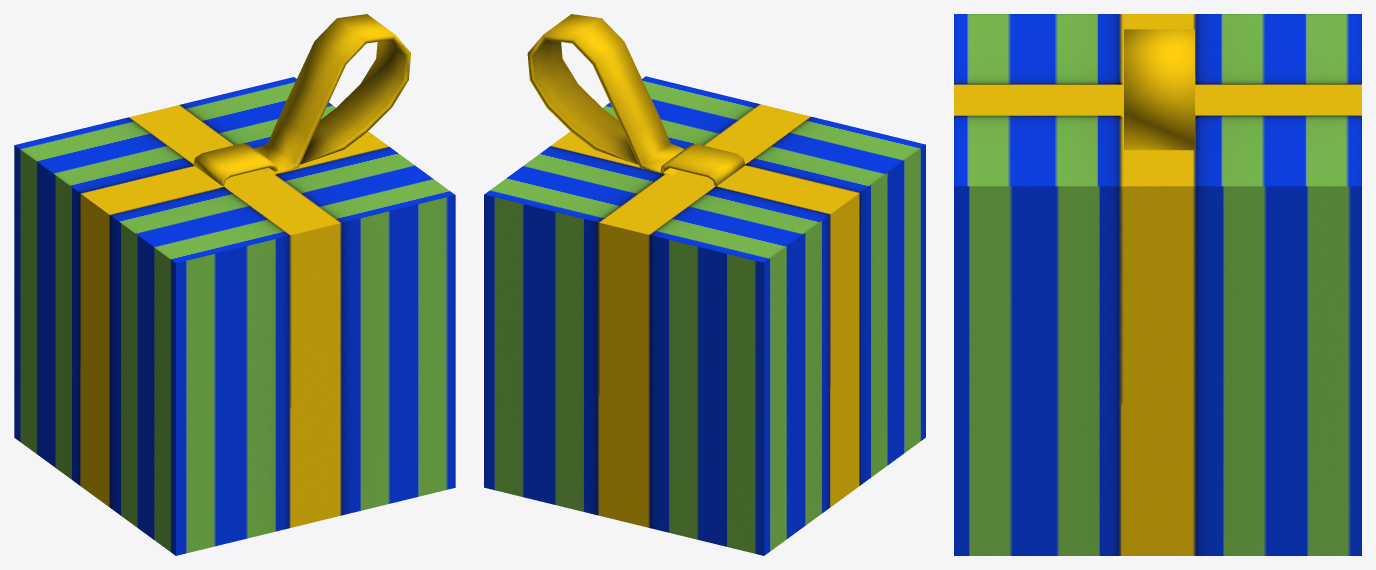
3 views of the same model, side by side, from view 1: azimuth 30°, elevation 25°; view 2: azimuth 150°, elevation 25°; view 3: azimuth 270°, elevation 25° (orthographic). The views are drawn at different scales.
Visible parts, largest first — view 1: smMAT0110014; view 2: smMAT0110014; view 3: smMAT0110014.
Part boxes in pixels (bbox=[...]): smMAT0110014: bbox=[14, 14, 455, 555]; smMAT0110014: bbox=[484, 14, 925, 555]; smMAT0110014: bbox=[954, 14, 1361, 555].
Size of the model in its own units: 63.56 by 81.44 by 58.78.
1 material, 1 textured.
